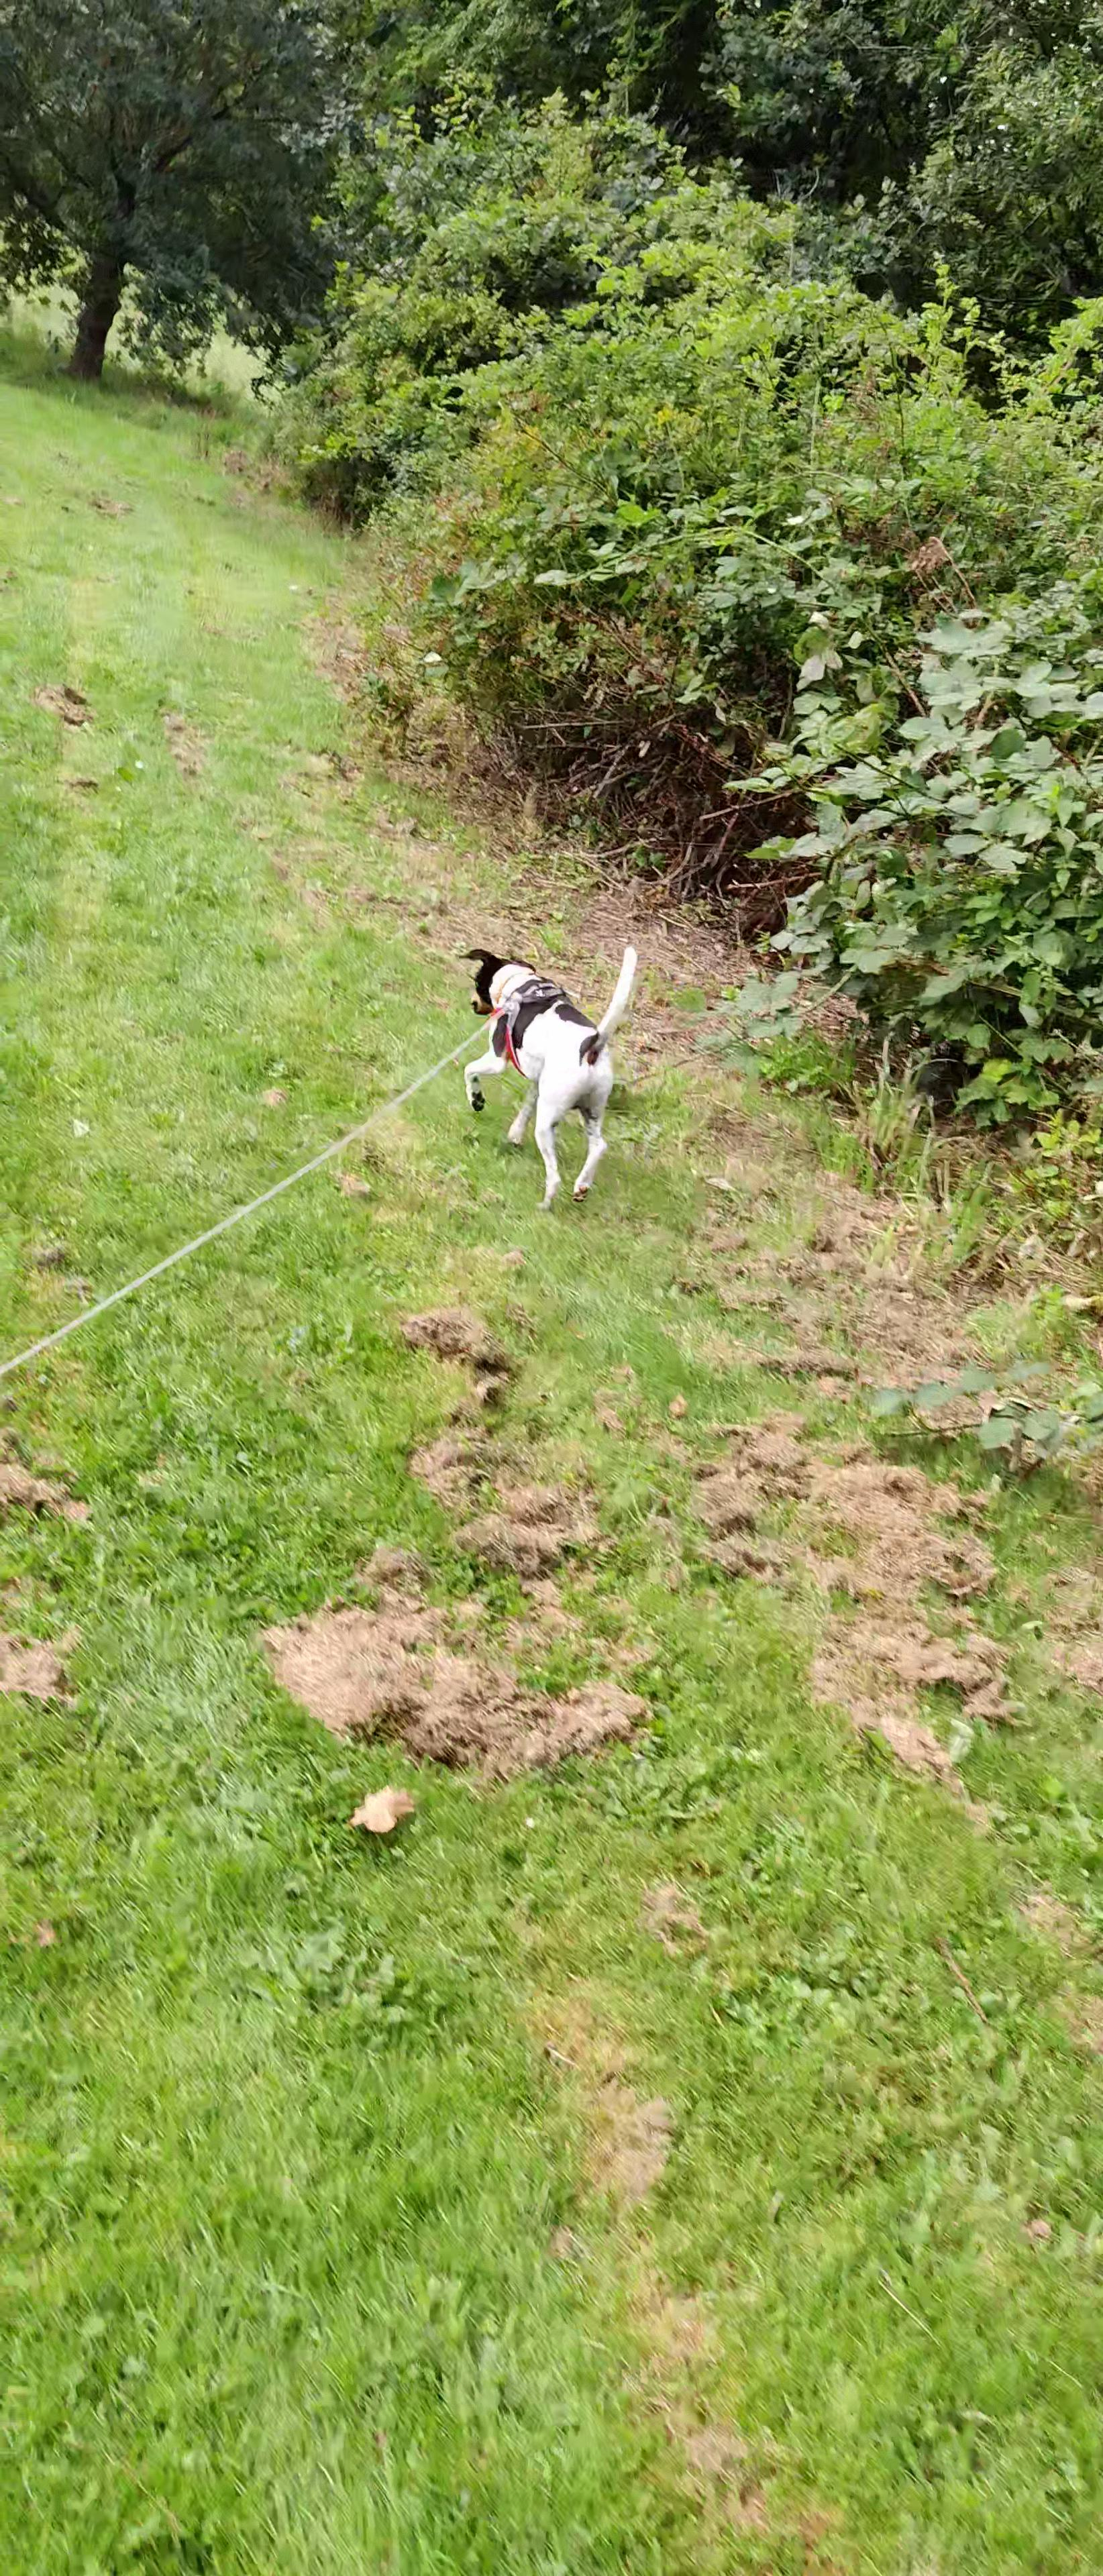Dog: (457, 940, 638, 1219)
